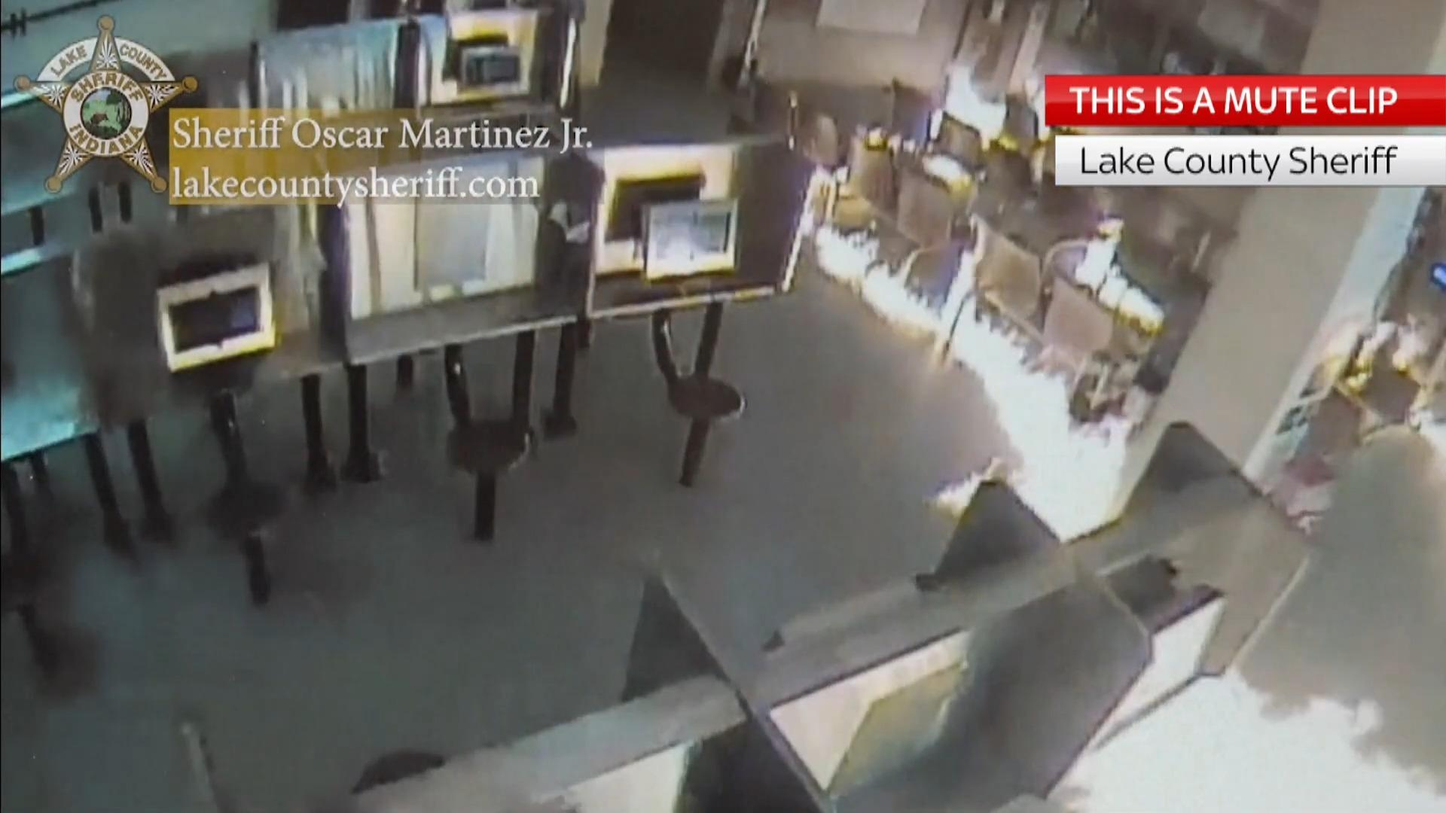fire: (1063, 665, 1446, 813), (934, 309, 1122, 539), (813, 225, 943, 334)
